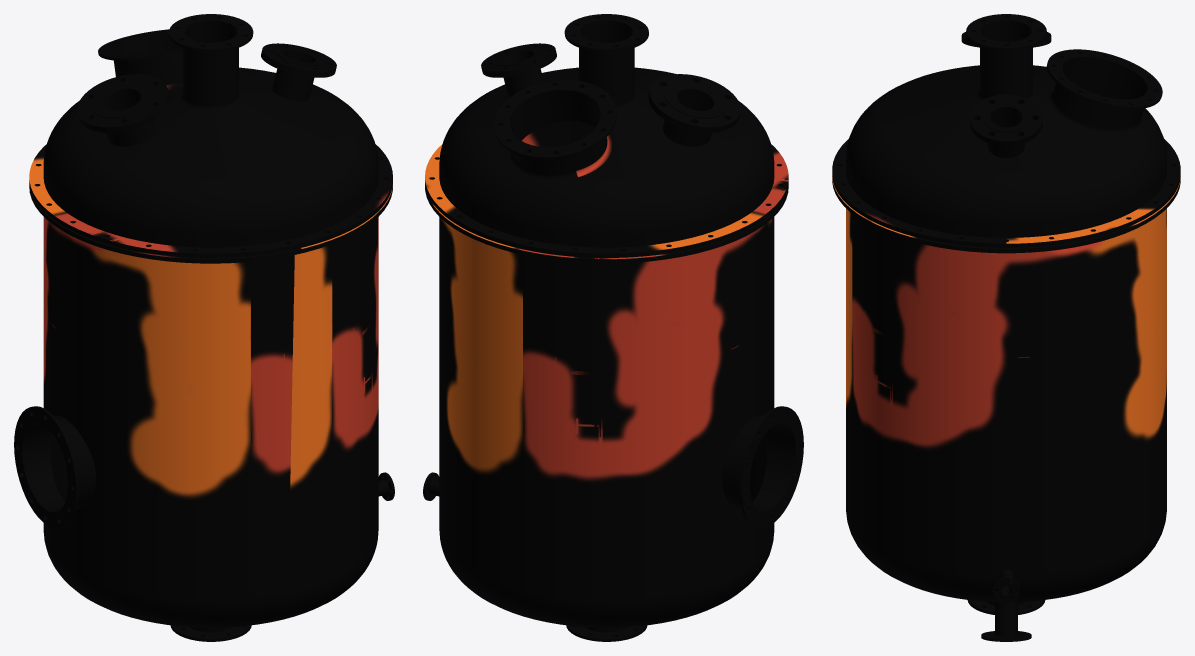
File: CO2 Collider.fbx
The picture shows the model from 3 angles, left to right: view 1: azimuth 30°, elevation 25°; view 2: azimuth 150°, elevation 25°; view 3: azimuth 270°, elevation 25°; orthographic projection. The views are drawn at different scales.
Parts seen in each view (by area): view 1: Пятый блок\Адсорбер 2\Корпус адсор, Пятый блок\Адсорбер 2\Крышка адсор; view 2: Пятый блок\Адсорбер 2\Корпус адсор, Пятый блок\Адсорбер 2\Крышка адсор; view 3: Пятый блок\Адсорбер 2\Корпус адсор, Пятый блок\Адсорбер 2\Крышка адсор.
Boxes of the visible parts, box(x1,y1,x2,y2) form: Пятый блок\Адсорбер 2\Корпус адсор: box(14, 184, 394, 641); Пятый блок\Адсорбер 2\Крышка адсор: box(29, 14, 392, 257); Пятый блок\Адсорбер 2\Корпус адсор: box(423, 120, 803, 641); Пятый блок\Адсорбер 2\Крышка адсор: box(425, 14, 788, 257); Пятый блок\Адсорбер 2\Корпус адсор: box(832, 178, 1180, 641); Пятый блок\Адсорбер 2\Крышка адсор: box(832, 14, 1180, 247).
Bounding box in the file's own units: 82636 × 136683 × 75981.
